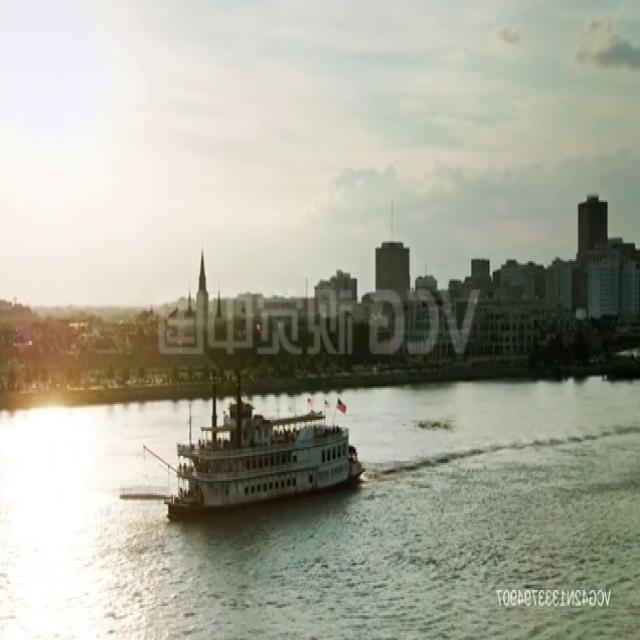passenger ship: (170, 393, 360, 518)
